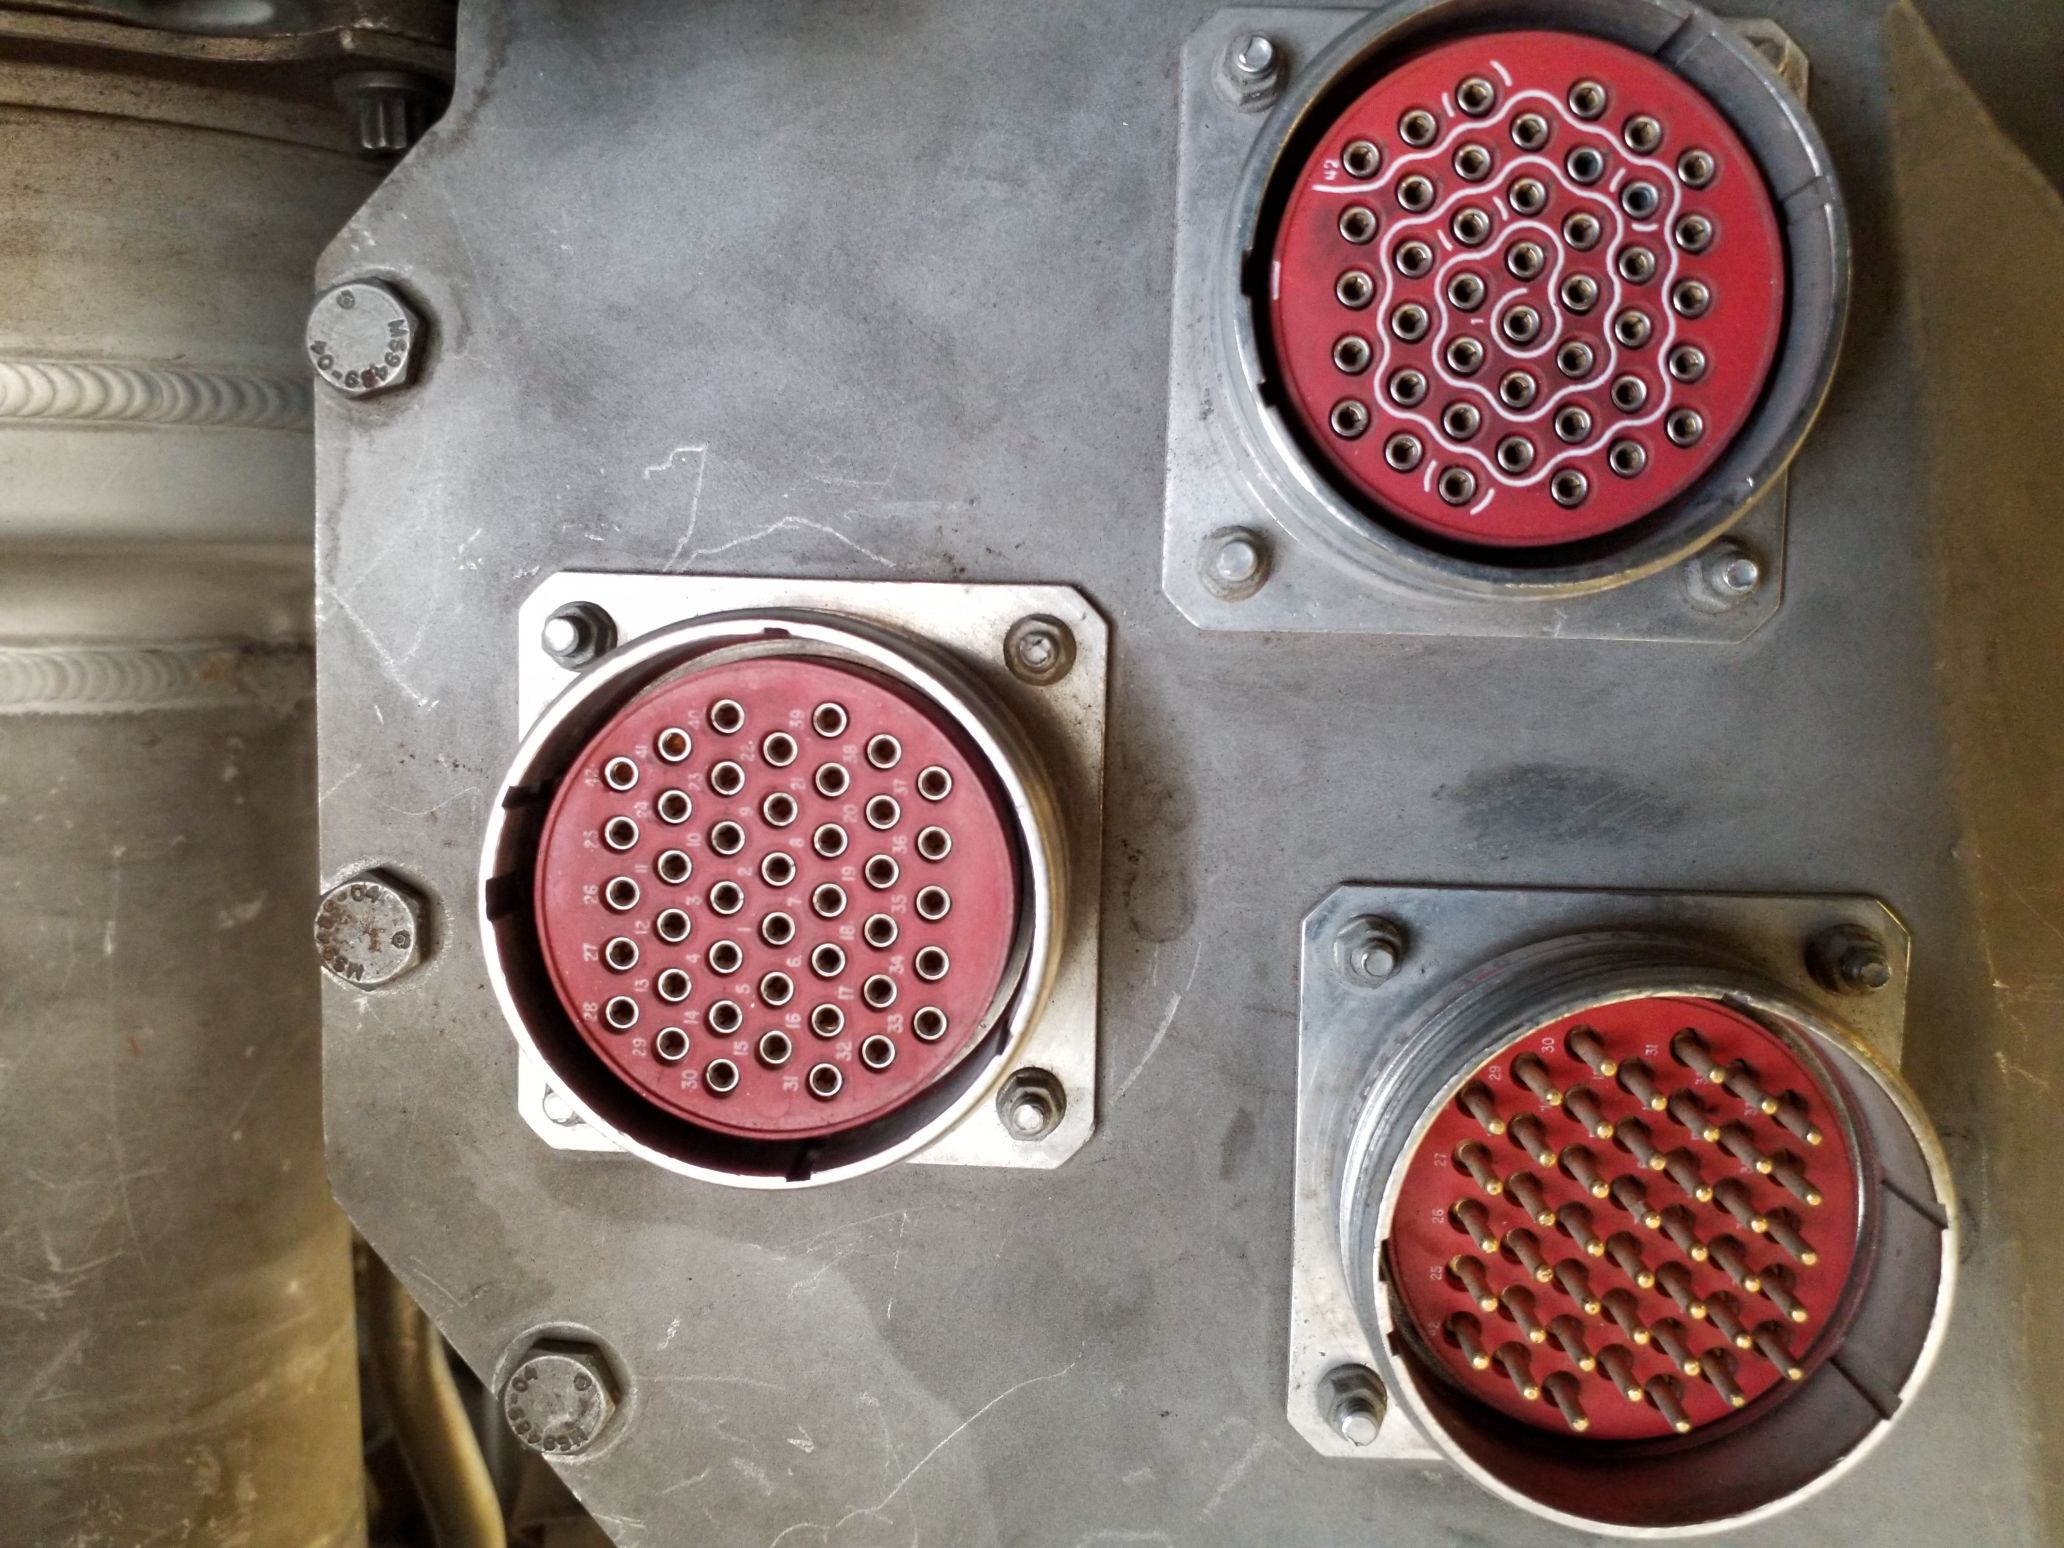inletnumbers: (471, 598, 1092, 1215)
inletround: (1191, 20, 1869, 623)
outlet: (1305, 893, 1971, 1541)
